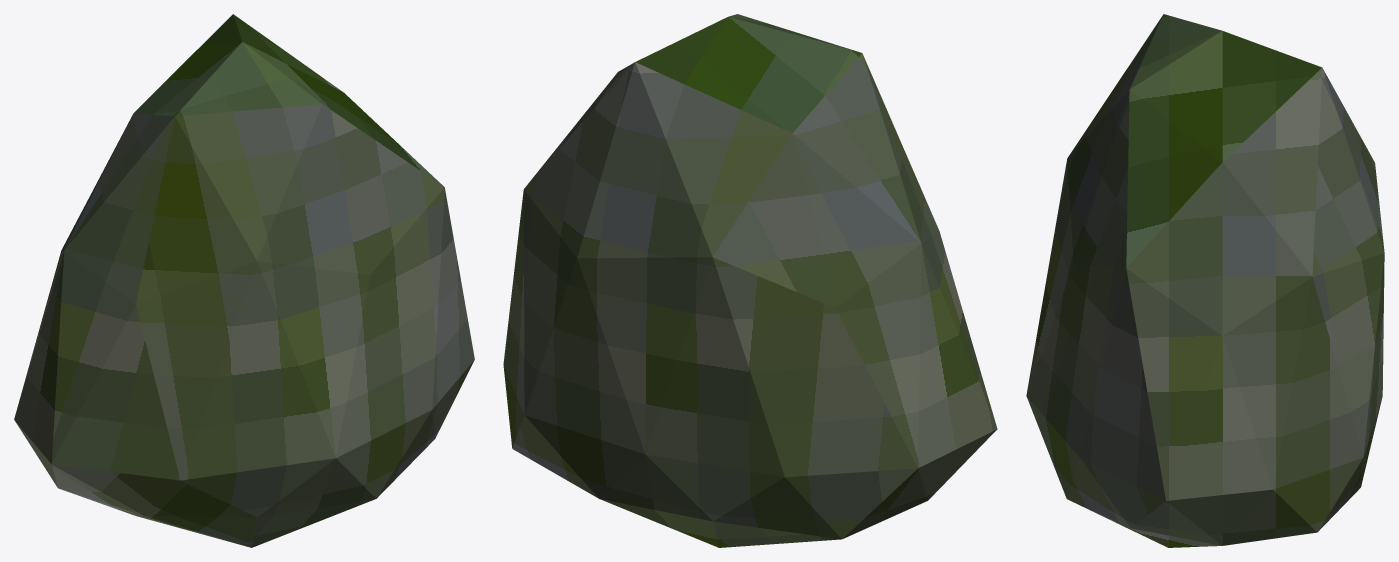
File: standing_stone_squat.glb
3 renders of one model, left to right at view 1: azimuth 30°, elevation 25°; view 2: azimuth 150°, elevation 25°; view 3: azimuth 270°, elevation 25°, orthographic. The views are drawn at different scales.
Parts seen in each view (by area): view 1: standing_stone_squat_Stone_Rock, standing_stone_squat_Stone_Moss; view 2: standing_stone_squat_Stone_Rock, standing_stone_squat_Stone_Moss; view 3: standing_stone_squat_Stone_Rock, standing_stone_squat_Stone_Moss.
Boxes of the visible parts, x1,y1,x2,y2 form: standing_stone_squat_Stone_Rock: [14, 104, 474, 547]; standing_stone_squat_Stone_Moss: [134, 14, 443, 186]; standing_stone_squat_Stone_Rock: [503, 53, 997, 547]; standing_stone_squat_Stone_Moss: [635, 14, 861, 132]; standing_stone_squat_Stone_Rock: [1026, 15, 1384, 547]; standing_stone_squat_Stone_Moss: [1126, 14, 1321, 267].
Bounding box in the file's own units: 1.2 × 1.3 × 0.837.
2 materials, 2 textured.
